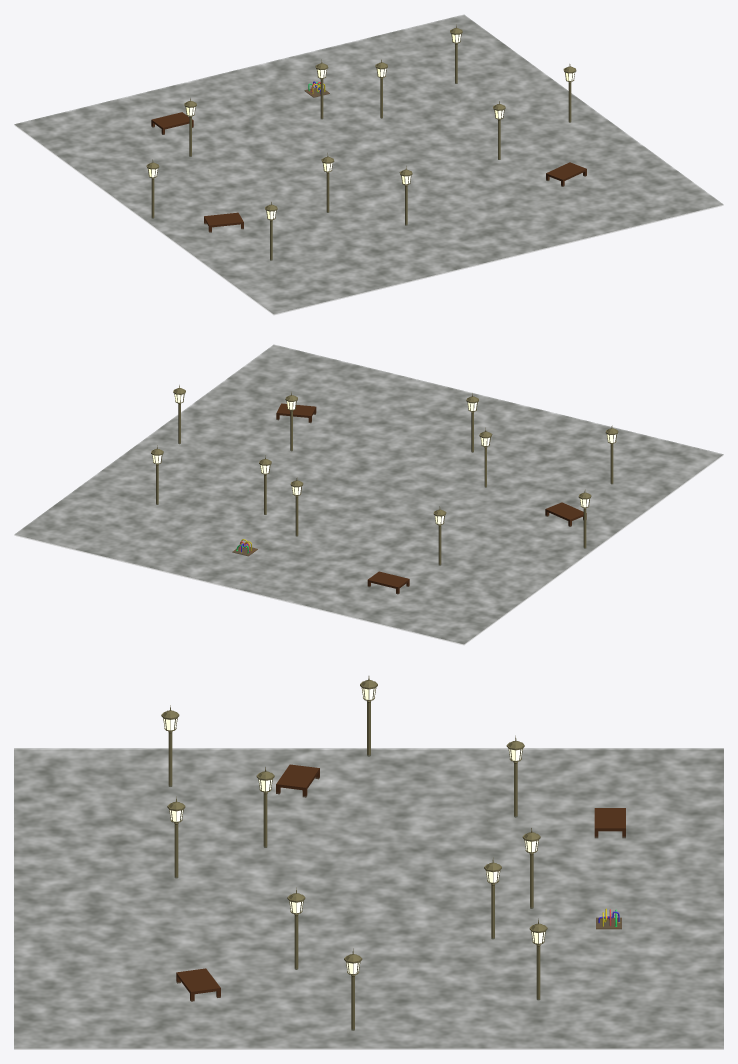
File: rock_kicking_purgatory_ground_1.glb
3 renders of one model, top to bottom at view 1: azimuth 30°, elevation 25°; view 2: azimuth 150°, elevation 25°; view 3: azimuth 270°, elevation 25°, orthographic. The views are drawn at different scales.
Parts seen in each view (by area): view 1: CloudsHeaven, Plane, Lamp Post, Tables; view 2: CloudsHeaven, Plane, Lamp Post, Tables; view 3: CloudsHeaven, Plane, Lamp Post, Tables.
Boxes of the visible parts, x1,y1,x2,y2 form: CloudsHeaven: (14,14,723,314); Plane: (14,15,723,315); Lamp Post: (146,24,576,260); Tables: (151,112,586,232); CloudsHeaven: (14,344,723,644); Plane: (14,345,723,645); Lamp Post: (151,385,618,565); Tables: (276,403,586,594); CloudsHeaven: (14,748,723,1048); Plane: (14,750,723,1049); Lamp Post: (161,676,547,1030); Tables: (176,764,625,1001).
Size of the model in its own units: 500 by 65.25 by 500.
14 materials, 1 textured.
